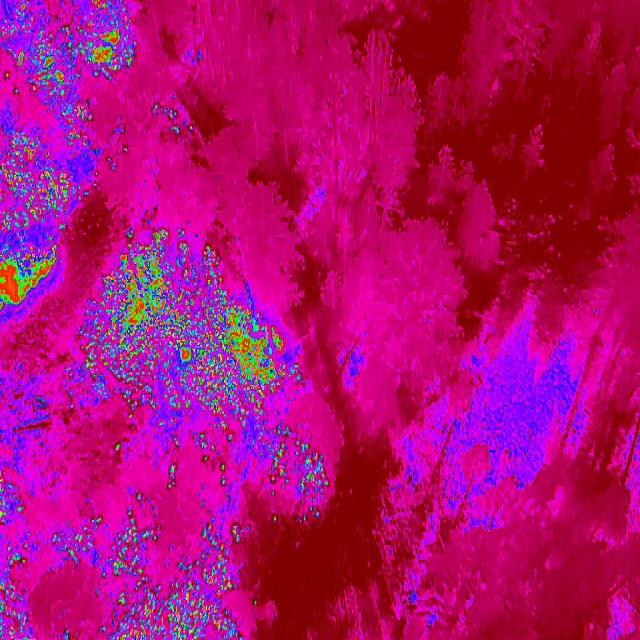fire: (81, 221, 300, 421), (0, 0, 135, 90), (104, 572, 250, 638), (0, 137, 79, 235), (270, 426, 336, 524), (0, 240, 62, 314), (0, 542, 35, 640), (200, 523, 253, 586), (196, 422, 241, 488), (107, 520, 161, 572), (52, 519, 102, 563), (145, 100, 198, 140), (54, 93, 94, 146), (121, 487, 166, 518), (0, 474, 24, 525), (158, 460, 183, 494), (103, 142, 130, 172), (170, 430, 184, 449), (112, 438, 124, 454)
